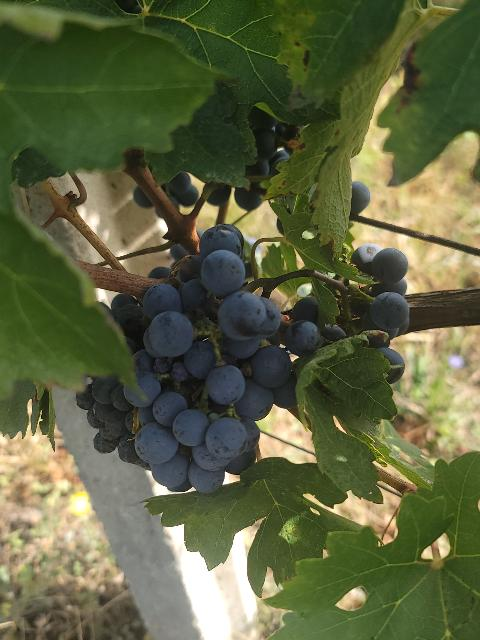grapes: (78, 225, 296, 494), (351, 244, 410, 384)
